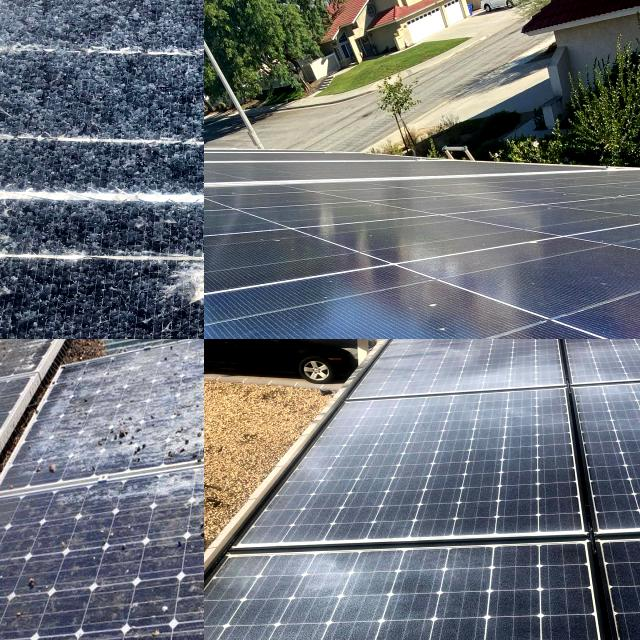bird: (163, 413, 204, 475), (98, 419, 152, 462), (26, 432, 64, 480), (167, 503, 204, 551), (6, 565, 52, 598)
dust: (328, 263, 640, 339)
hotspot: (157, 224, 204, 339)
